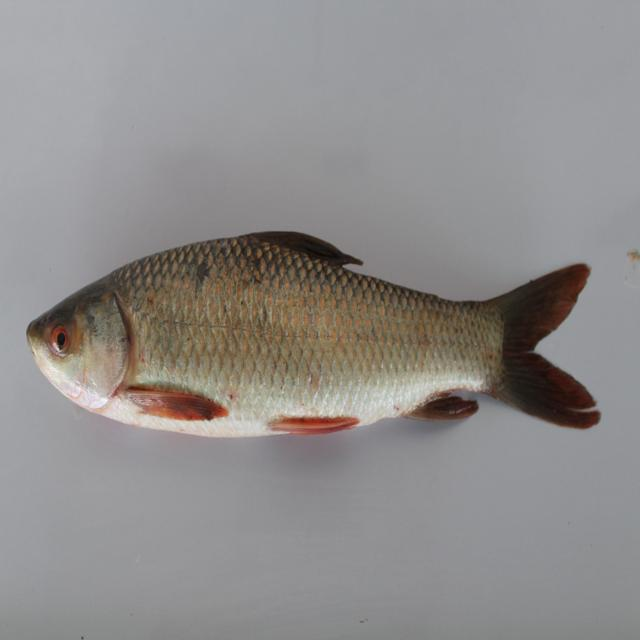Rohu: (27, 218, 603, 440)
